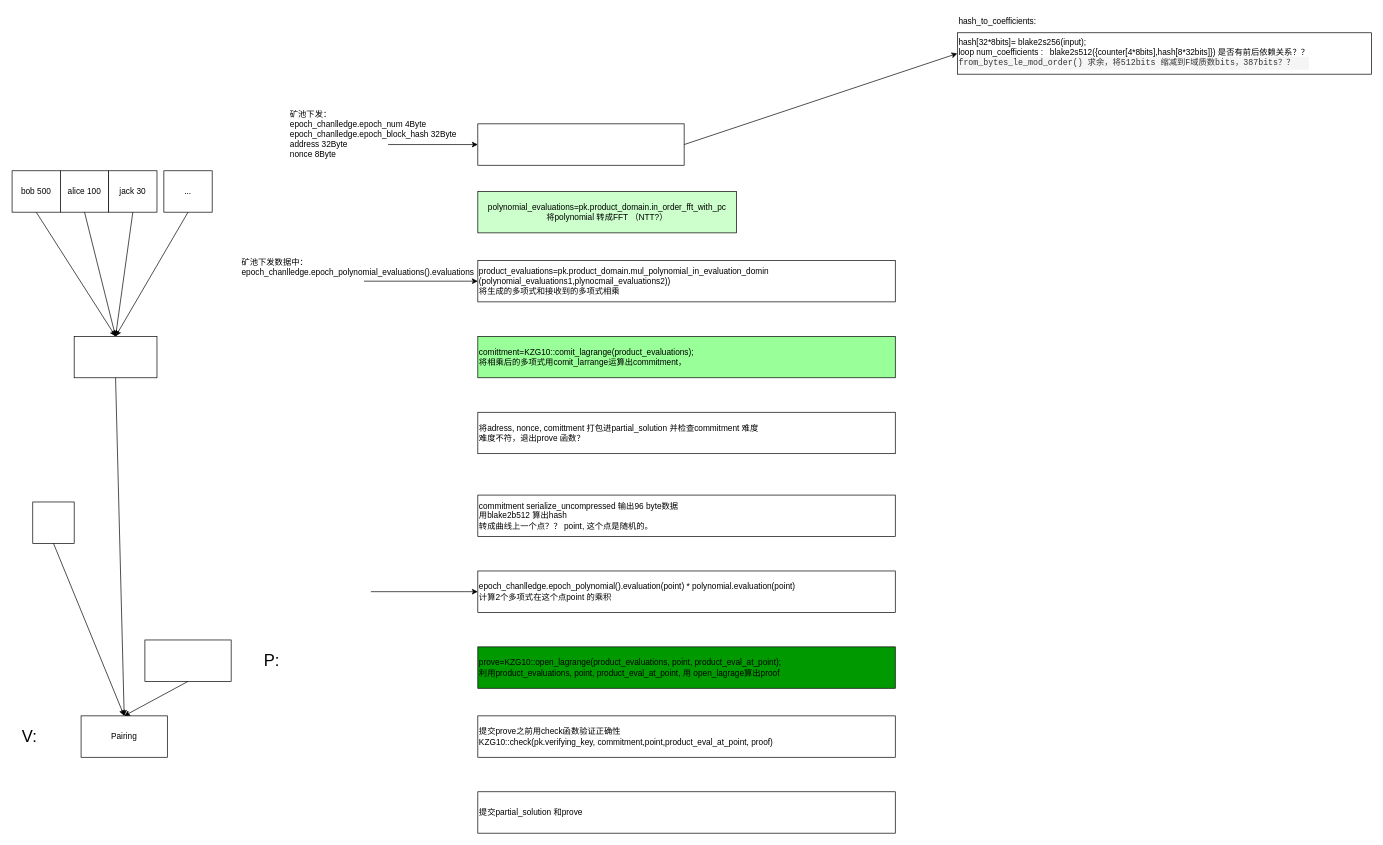
Image size: 1383x845. Some labels were removed from this diagram. Each missing label, with the centre of its shape:
"commitment HASH" belongs at [115,357].
"Mike 800" belongs at [53,522].
"proof Hash" belongs at [187,660].
"prover_polynomial 函数 1.拼接成76BYte数据 2.hash_to_polynamial 转换成polynomial" belongs at [580,144].
